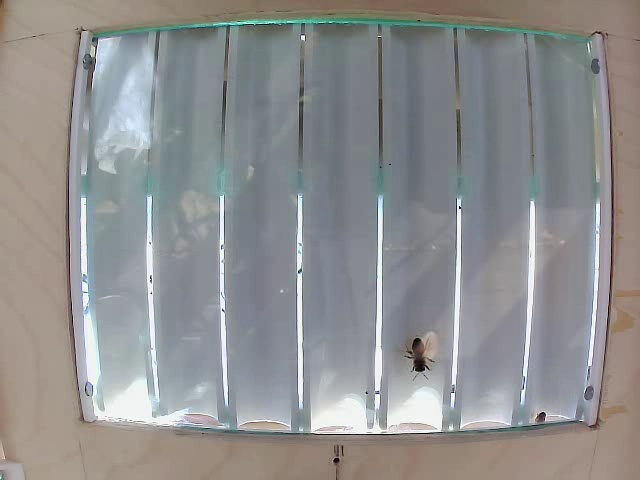bee: (400, 333, 441, 384)
